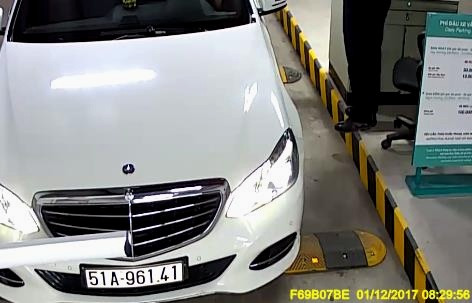plate: (80, 260, 186, 289)
